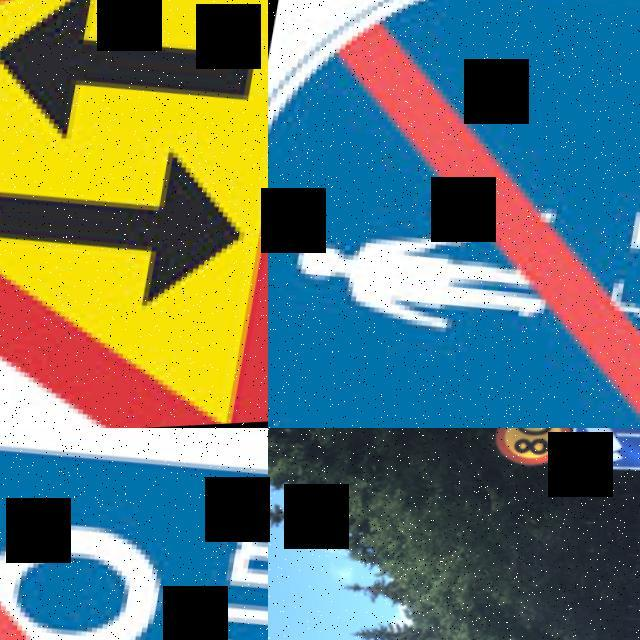1: (558, 428, 640, 486)
103: (0, 428, 268, 640)
112: (268, 0, 640, 428)
150: (0, 0, 268, 428)
55: (488, 428, 577, 476)
two way traffic: (0, 0, 268, 428)
